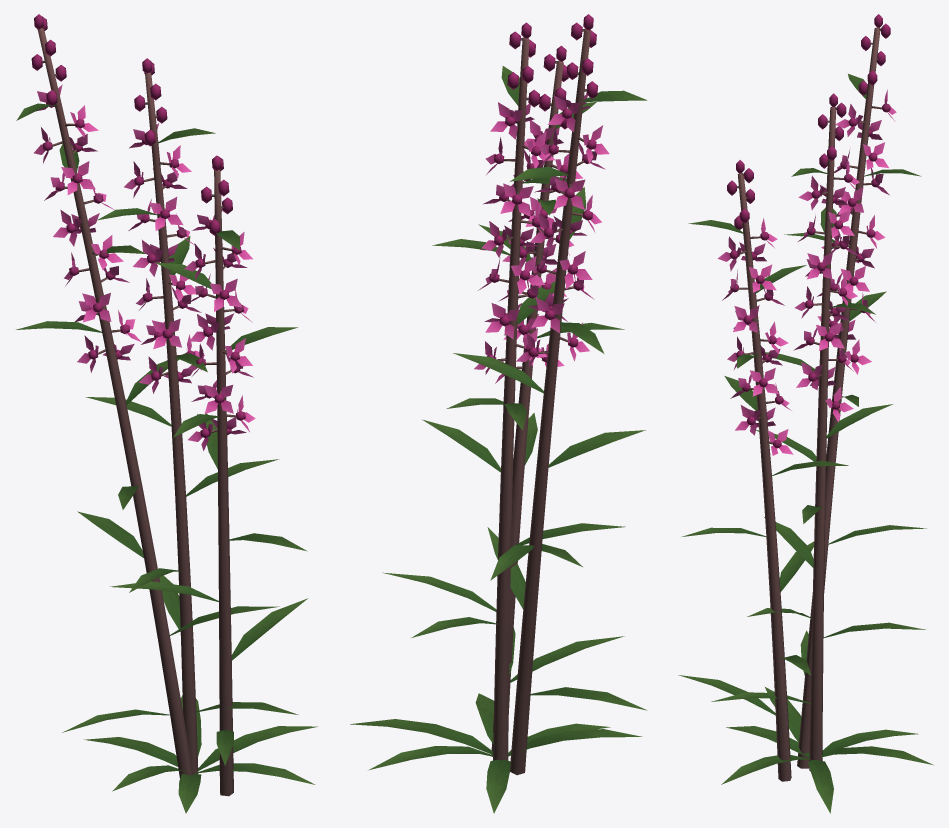
Rendered from fireweed.glb.
3 renders of one model, left to right at view 1: azimuth 30°, elevation 25°; view 2: azimuth 150°, elevation 25°; view 3: azimuth 270°, elevation 25°, orthographic. The views are drawn at different scales.
Visible parts, largest first — view 1: fireweed; view 2: fireweed; view 3: fireweed.
Boxes of the visible parts, x1,y1,x2,y2 form: fireweed: [16, 14, 317, 813]; fireweed: [350, 14, 647, 813]; fireweed: [678, 14, 933, 813].
Bounding box in the file's own units: 0.4842 × 1.22 × 0.404.
1 material, 1 textured.
